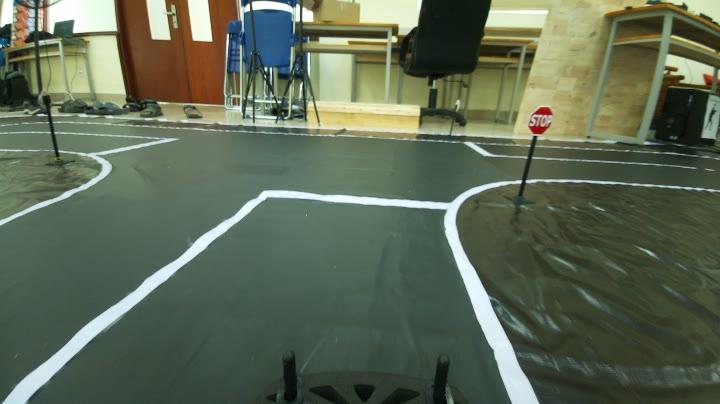stop: (526, 99, 552, 140)
